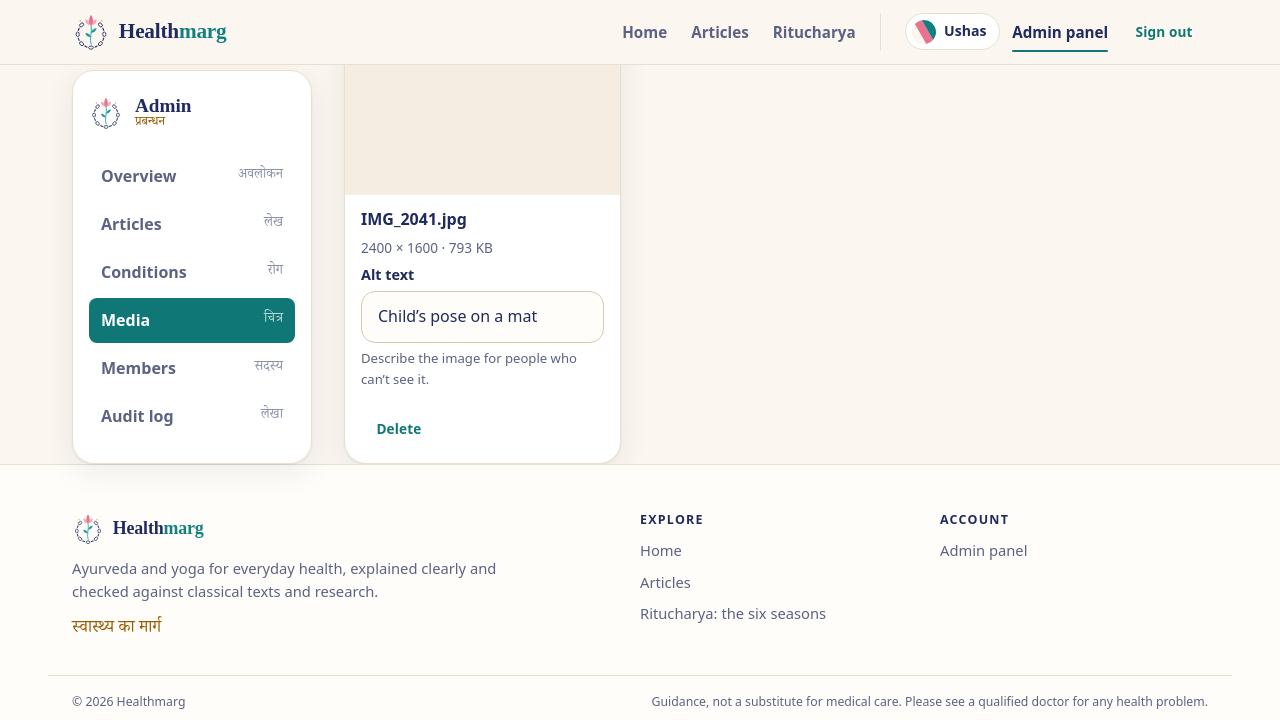
it: admin media library › asks before deleting, explains when an image is still in use, and deletes when it is not
(page scrolled)
Step 1. Click the button with aria-label "Delete IMG_2041.jpg" → (399, 429), box [361,410,437,447]
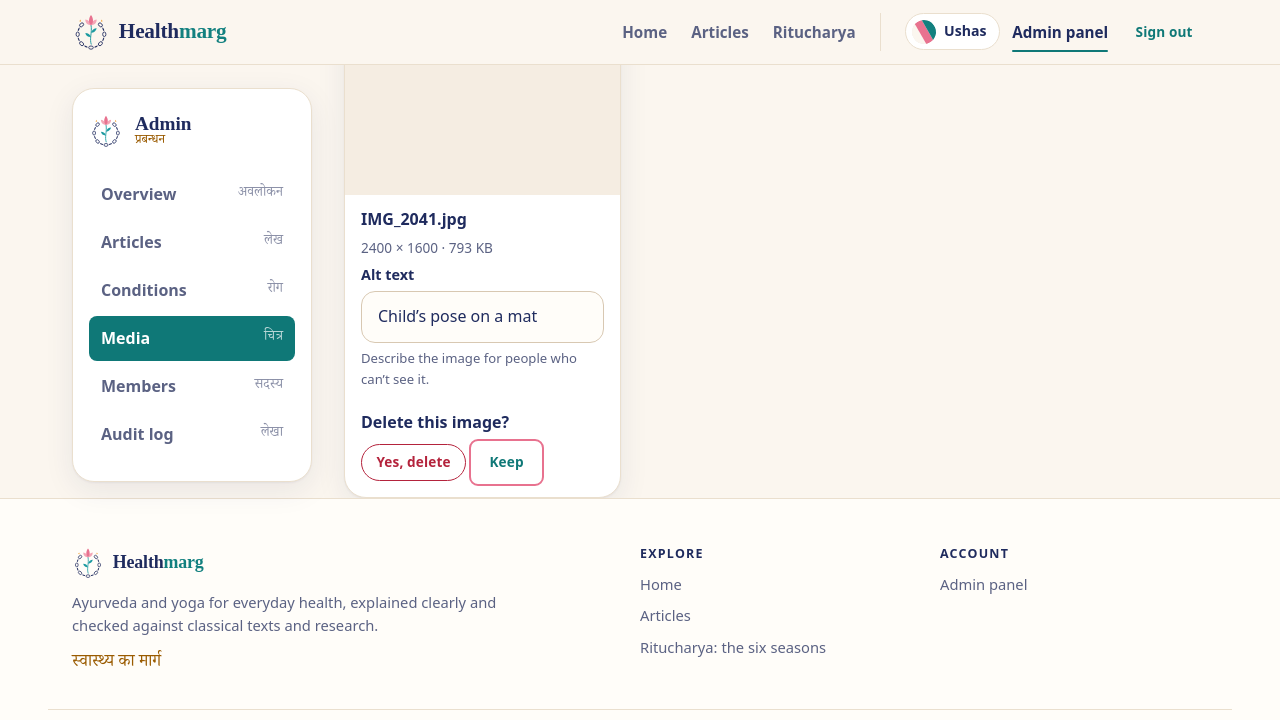
Step 2. Click the button "Yes, delete" → (414, 462), box [361,444,466,480]
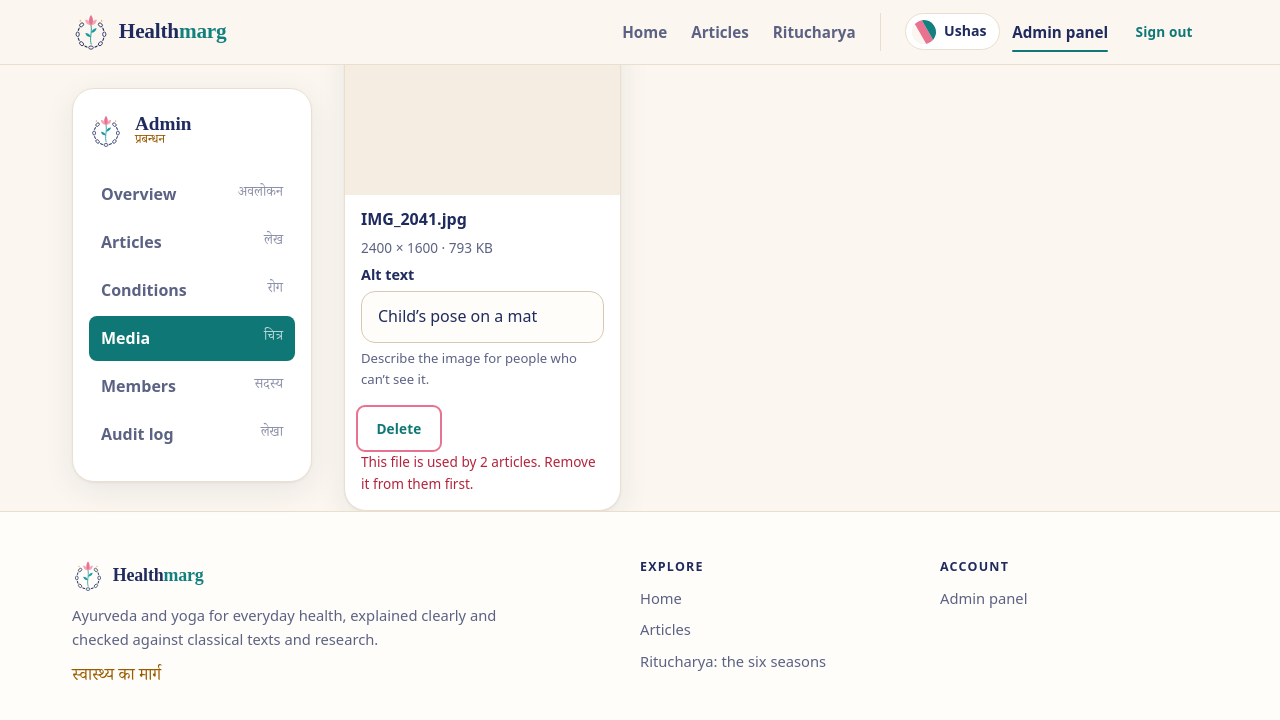
Expected: the text "This file is used by 2 articles. Remove it from them first." is shown, [361,451,604,494]
Step 3. Click the button with aria-label "Delete IMG_2041.jpg" → (399, 429), box [361,410,437,447]
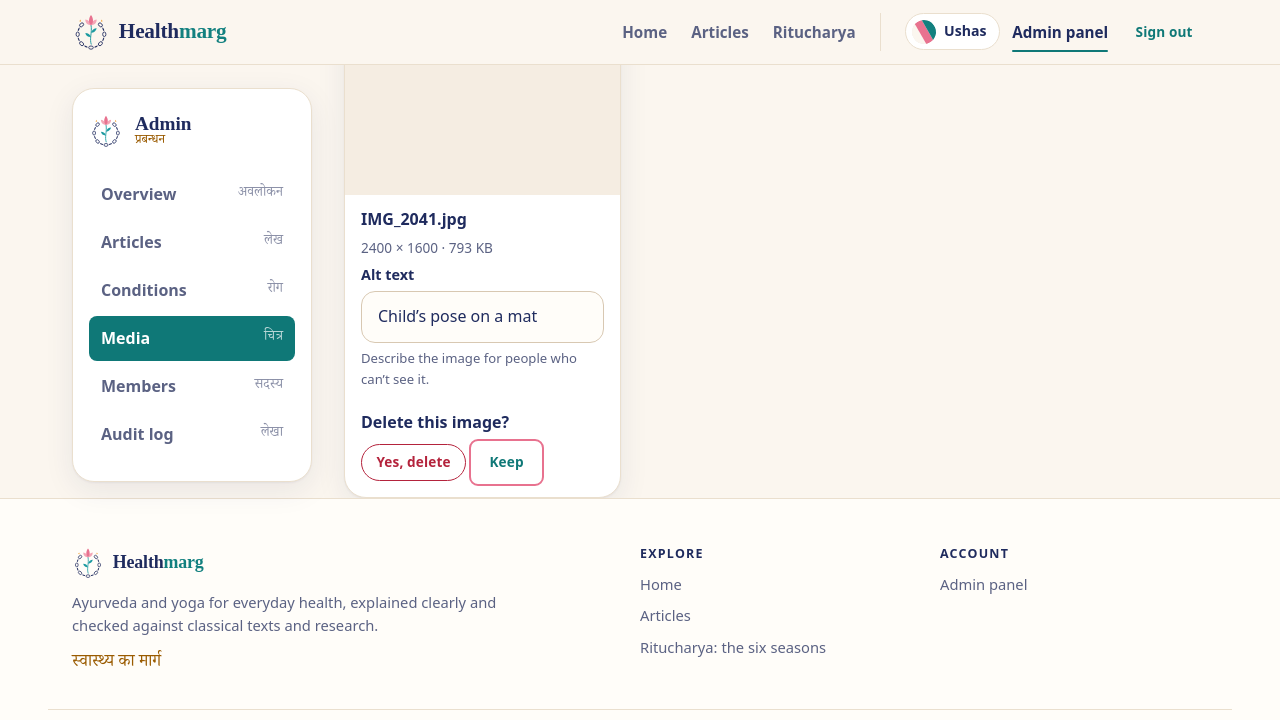
Step 4. Click the button "Yes, delete" → (414, 462), box [361,444,466,480]
(page scrolled)
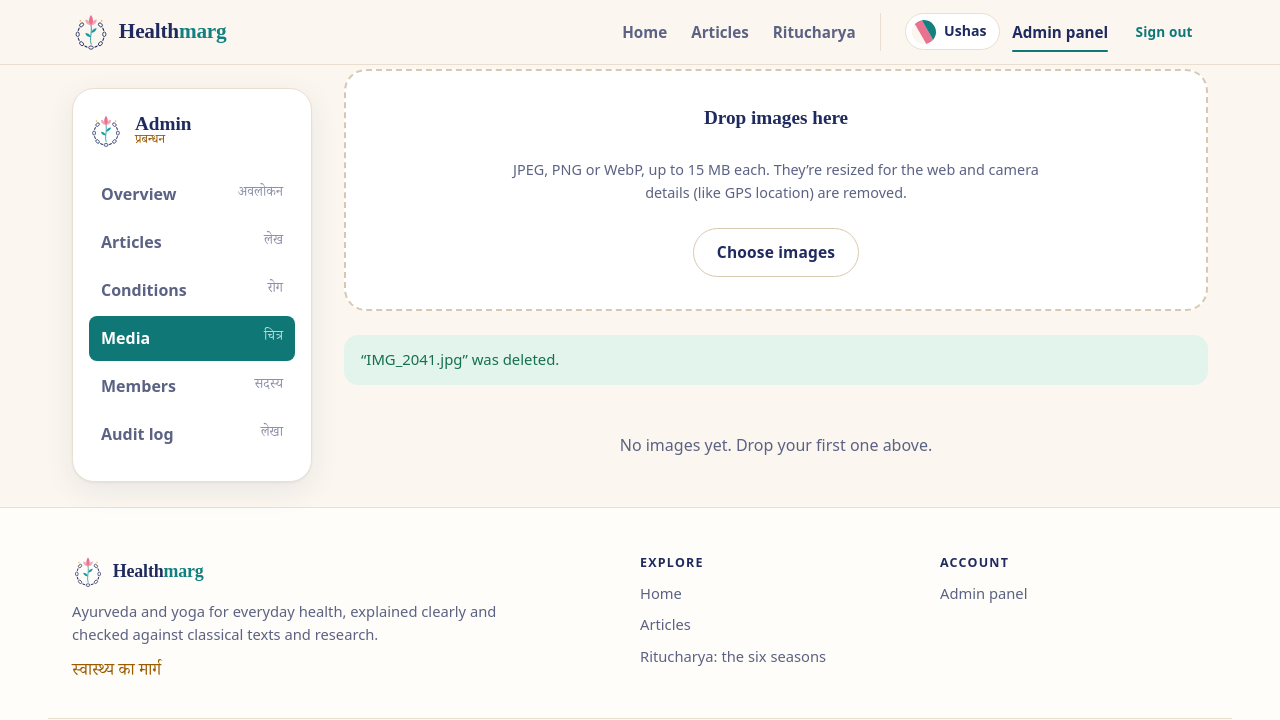
Expected: the message reads "“IMG_2041.jpg” was deleted.", [361,349,559,369]
Expected: the text "No images yet. Drop your first one above." is shown, [620,434,932,456]
